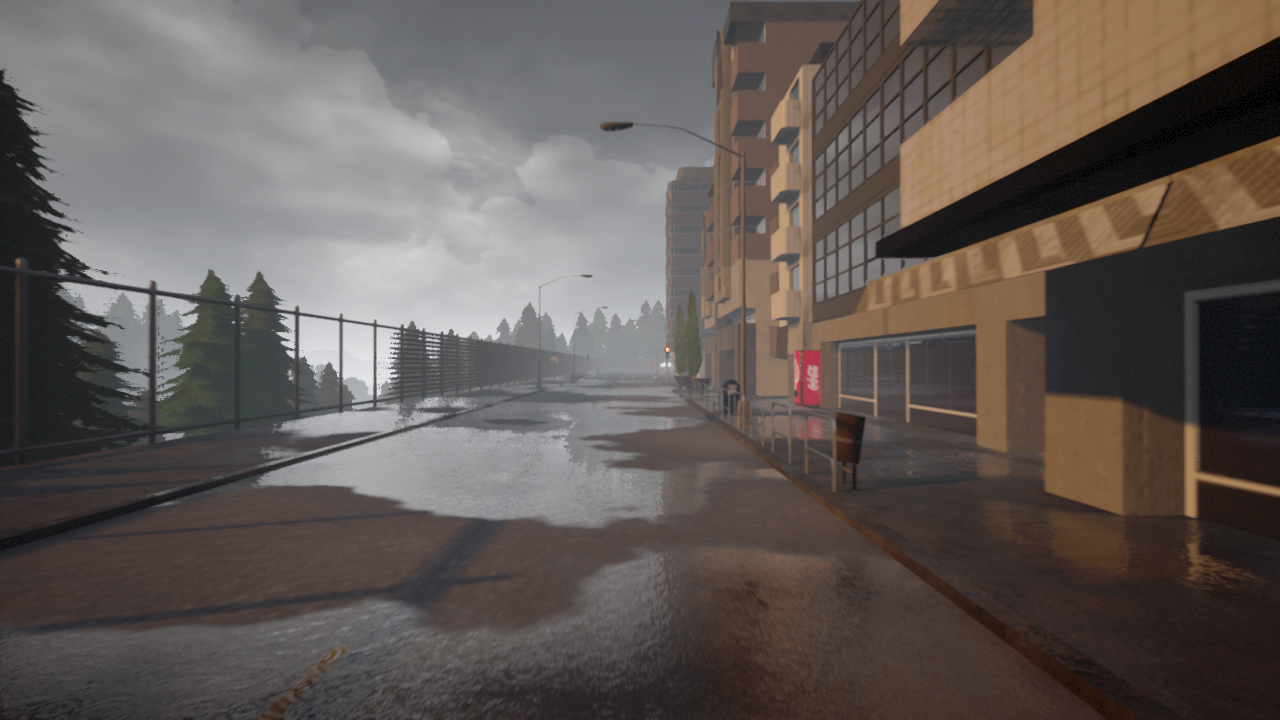red: (664, 346, 670, 358)
